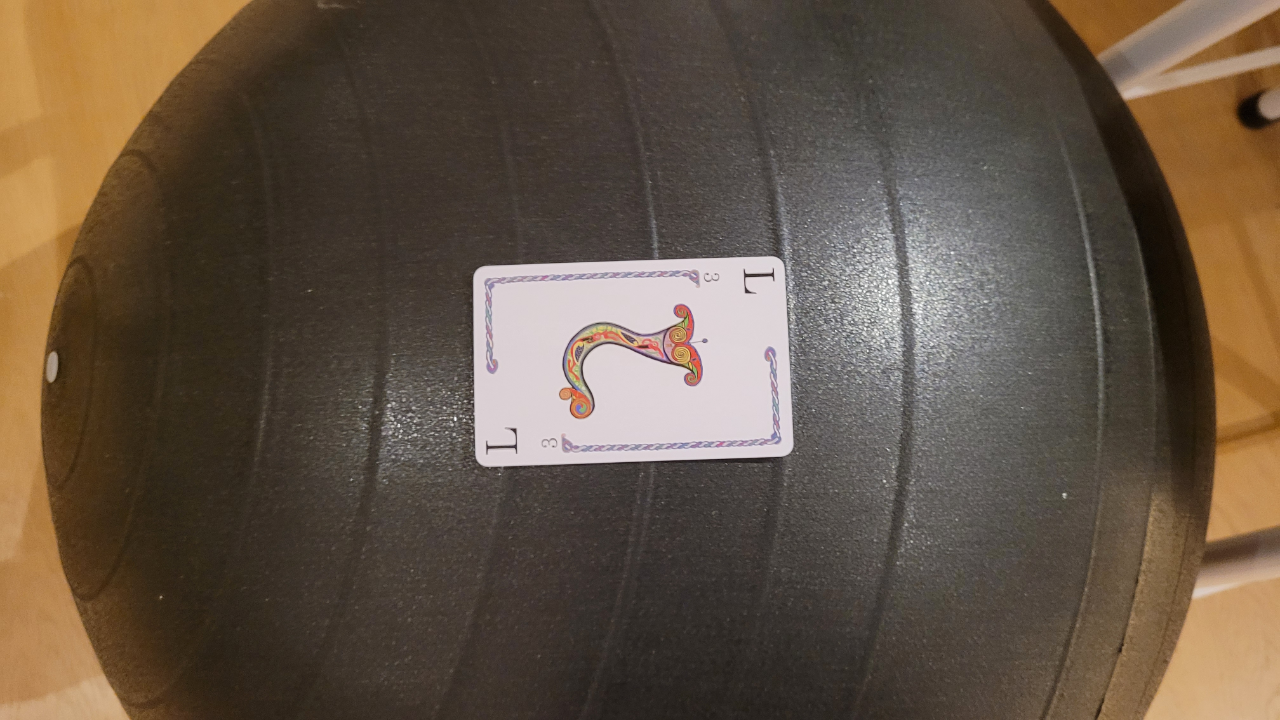quiddler_card: (460, 246, 813, 482)
